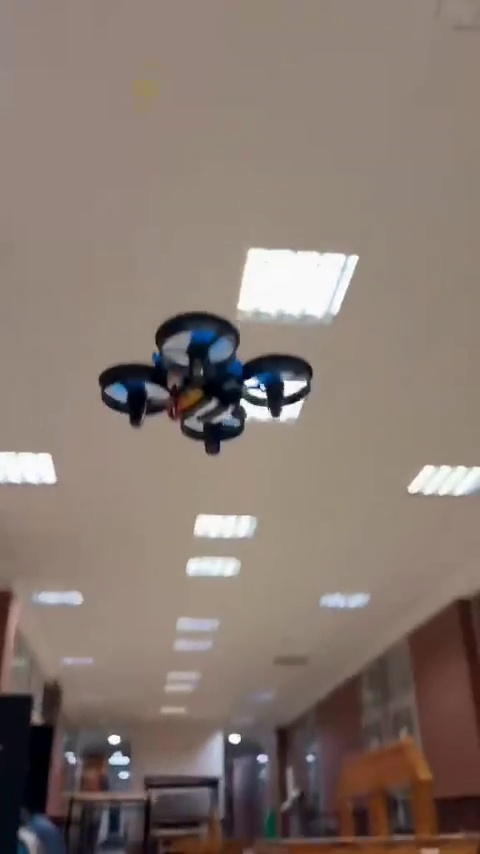drone: (96, 313, 312, 461)
